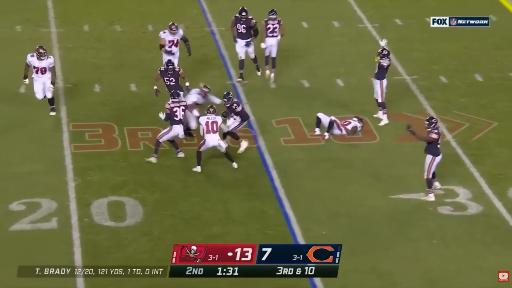Helmet: (426, 117, 438, 130), (35, 46, 46, 59), (223, 92, 234, 105), (378, 48, 390, 59), (200, 85, 210, 97), (165, 60, 175, 72), (170, 90, 181, 100), (238, 7, 248, 18), (169, 23, 178, 34), (206, 105, 216, 114), (268, 9, 277, 18), (354, 116, 363, 125), (201, 85, 210, 92)
Jersey: (27, 54, 54, 79), (199, 115, 222, 140), (159, 67, 182, 92), (186, 89, 221, 105), (159, 29, 183, 52), (234, 15, 256, 40), (166, 100, 187, 126), (227, 100, 249, 121), (425, 128, 441, 156), (264, 19, 282, 37), (375, 59, 390, 80), (186, 89, 205, 105), (340, 119, 362, 132)
Player: (146, 91, 187, 163), (407, 117, 442, 200), (193, 106, 237, 172), (231, 7, 261, 82), (24, 46, 56, 115), (185, 85, 221, 137), (261, 9, 283, 82), (223, 92, 249, 153), (374, 39, 391, 125), (159, 23, 191, 66), (311, 113, 363, 139), (154, 60, 189, 96)
